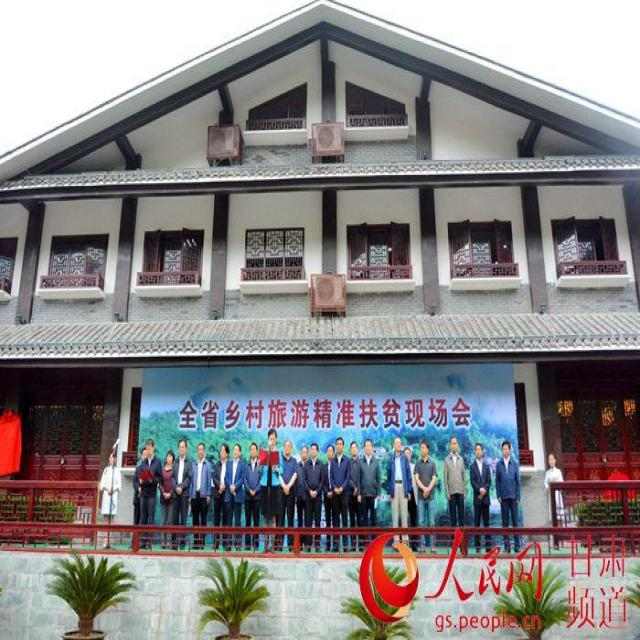non-fight: (134, 440, 162, 549), (495, 439, 521, 552), (386, 438, 412, 548), (261, 431, 285, 549), (414, 441, 438, 552), (357, 439, 379, 552), (97, 450, 122, 548), (448, 439, 470, 550), (171, 443, 194, 549), (470, 443, 492, 553), (213, 444, 235, 550), (304, 442, 325, 553), (187, 446, 209, 549), (243, 445, 264, 550), (278, 441, 298, 551), (543, 453, 566, 547), (321, 442, 341, 550), (226, 445, 246, 547), (294, 446, 313, 550), (158, 450, 178, 548), (347, 444, 364, 552)
